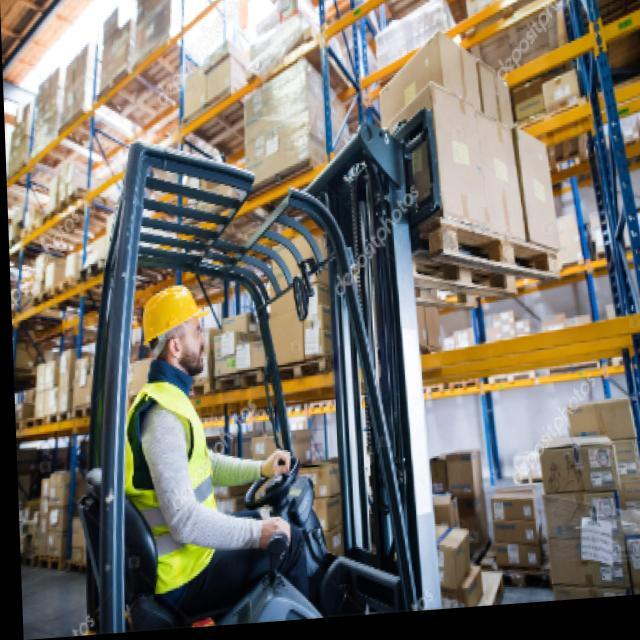hard_hat: (137, 276, 217, 383)
vest: (116, 373, 230, 600)
